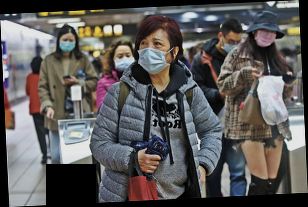with_mask: (135, 35, 170, 76), (253, 27, 278, 48), (113, 51, 136, 72), (220, 38, 244, 55), (57, 35, 77, 54)
